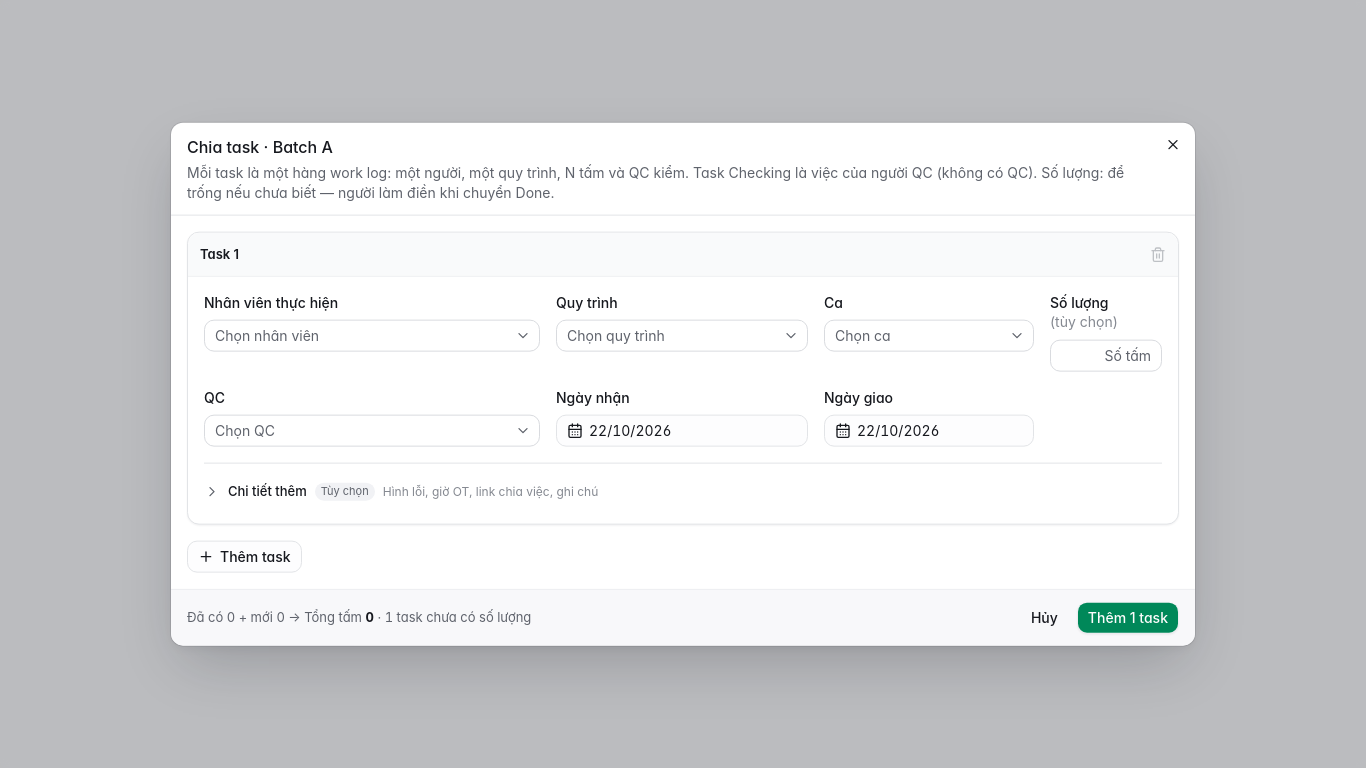
Test case: SplitTasksDialog — line cards › submitting an incomplete line shows the errors under the fields and focuses the first one
The image size is (1366, 768).
Click the button "Thêm 1 task".
click(1128, 617)  # box 1077,601 -> 1179,633
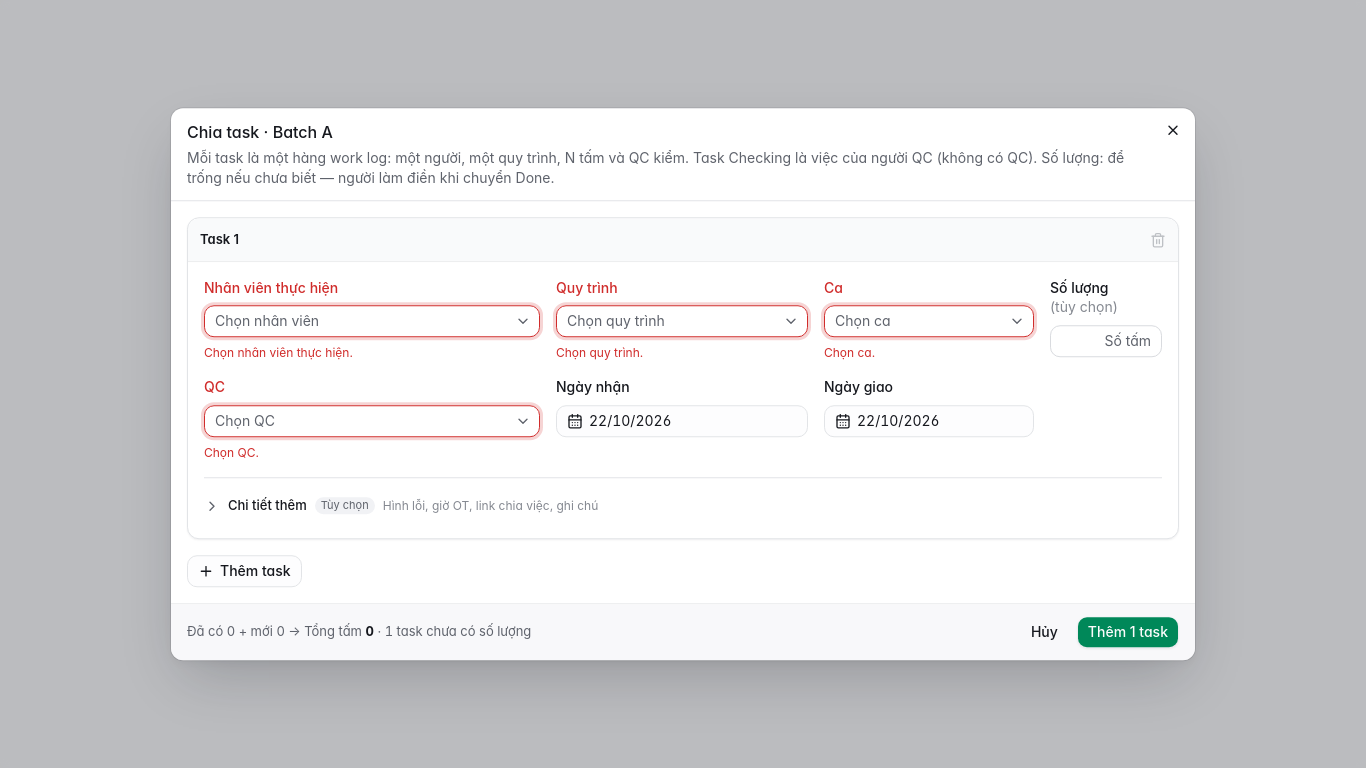
Check: the text "Chọn nhân viên thực hiện." is shown, box 204,346 -> 353,360
Check: the text "Chọn quy trình." is shown, box 556,346 -> 643,360
Check: the text "Chọn QC." is shown, box 204,445 -> 259,460
